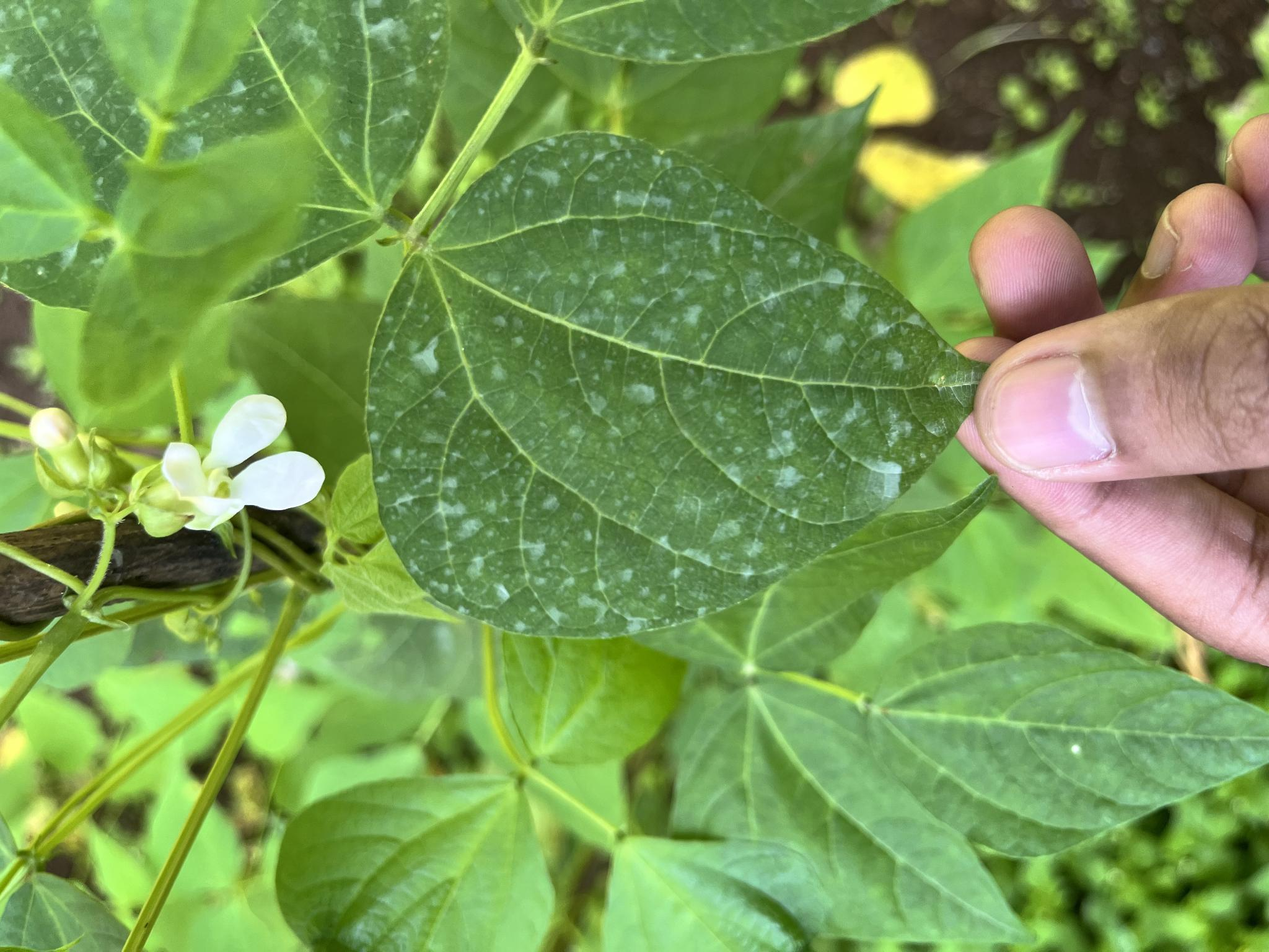embun tepung: (367, 129, 995, 636)
